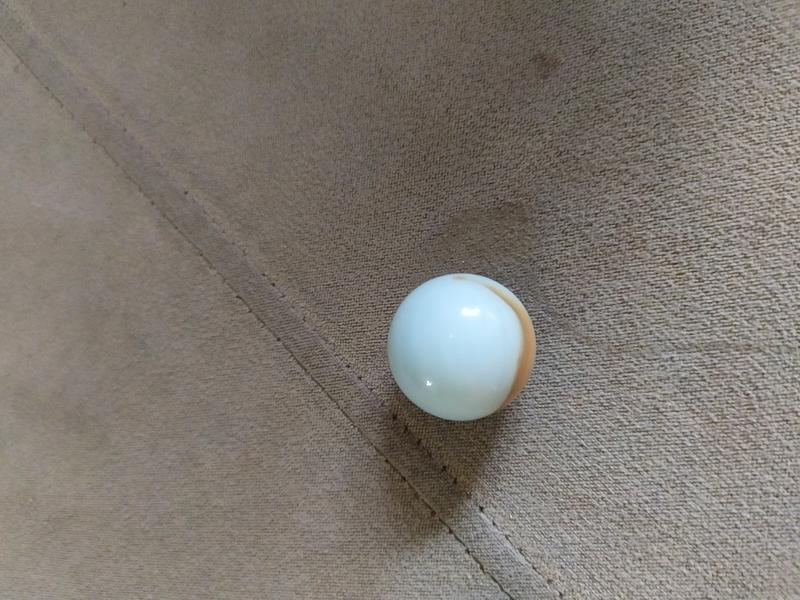Warning: (383, 270, 540, 424)
